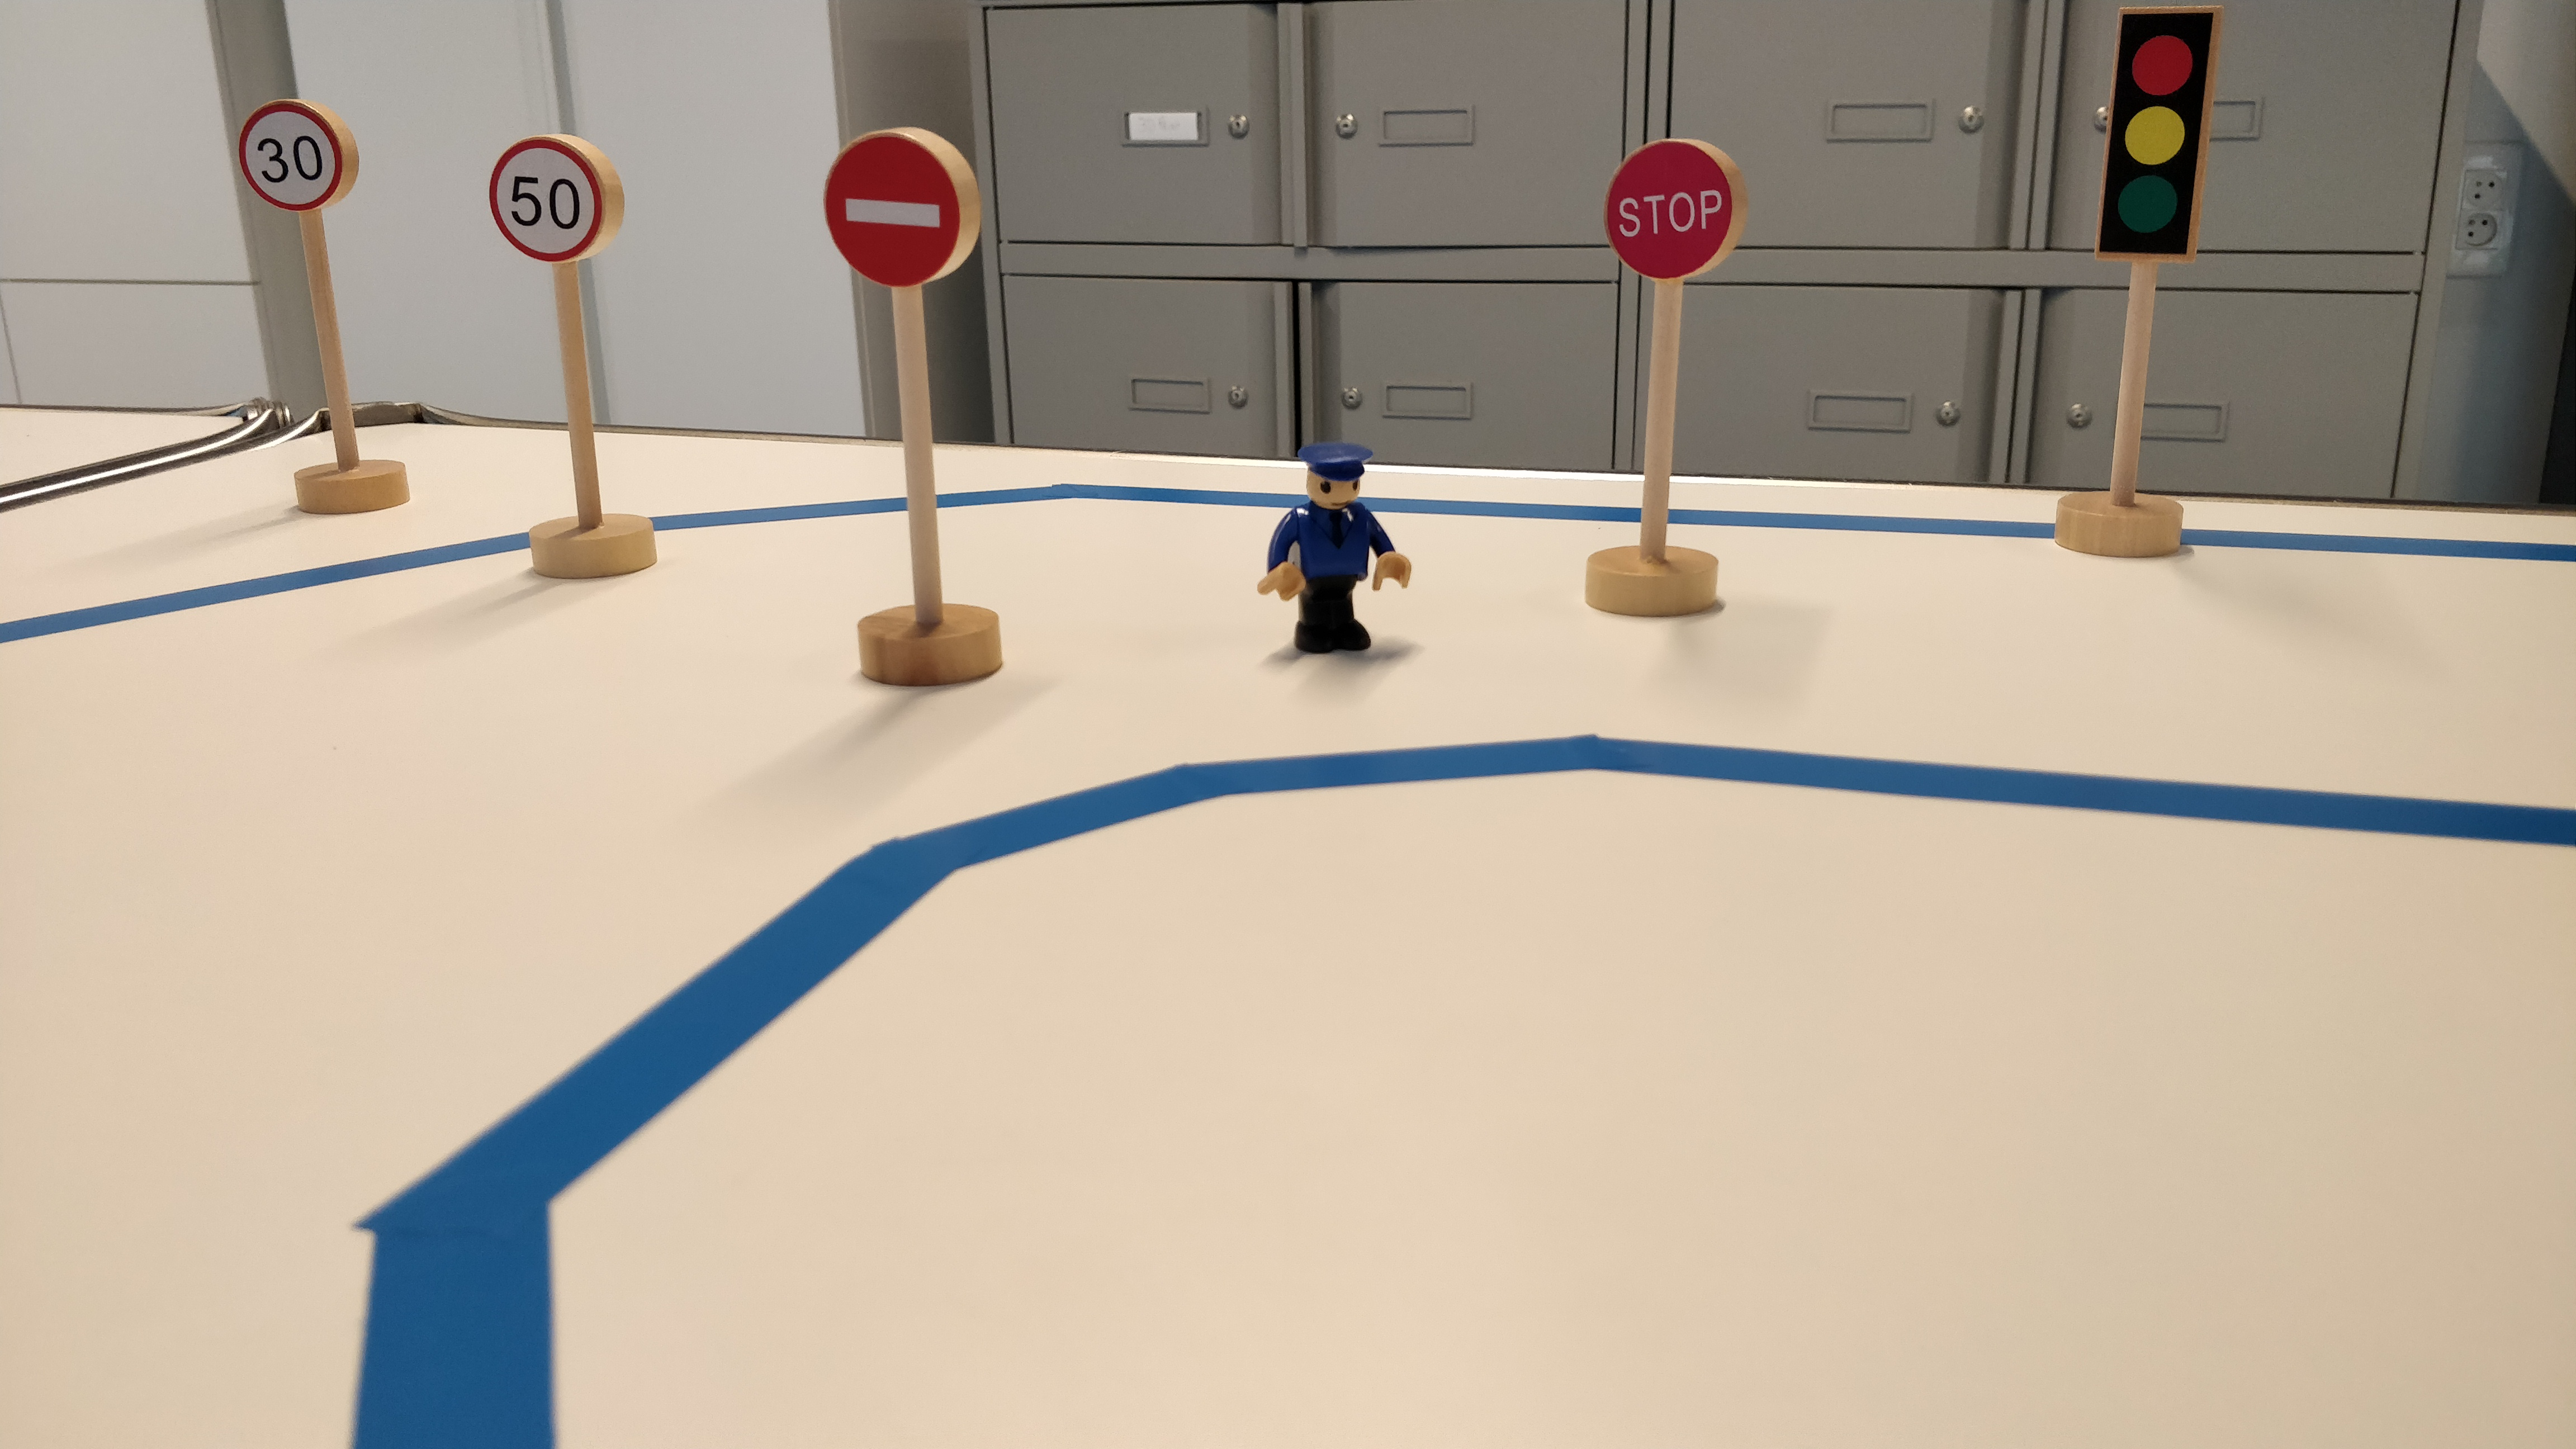Person: (1251, 434, 1418, 664)
Prohibition Sign: (823, 126, 983, 292)
Speed Limit 30: (232, 96, 361, 214)
Speed Limit 50: (485, 132, 630, 268)
Stop Sign: (1603, 132, 1751, 287)
Traffic Light: (2085, 3, 2227, 269)
